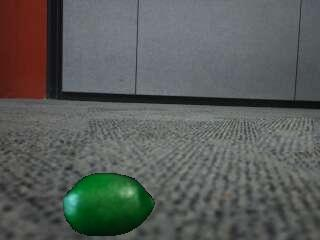Lime: (60, 172, 156, 237)
